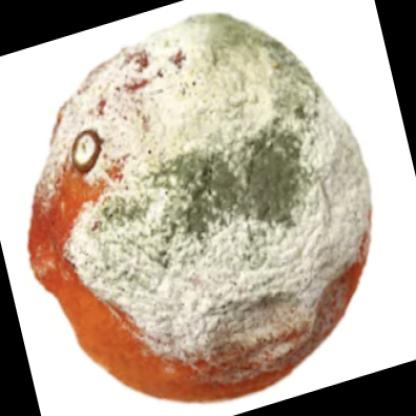rotten: (28, 13, 373, 403)
